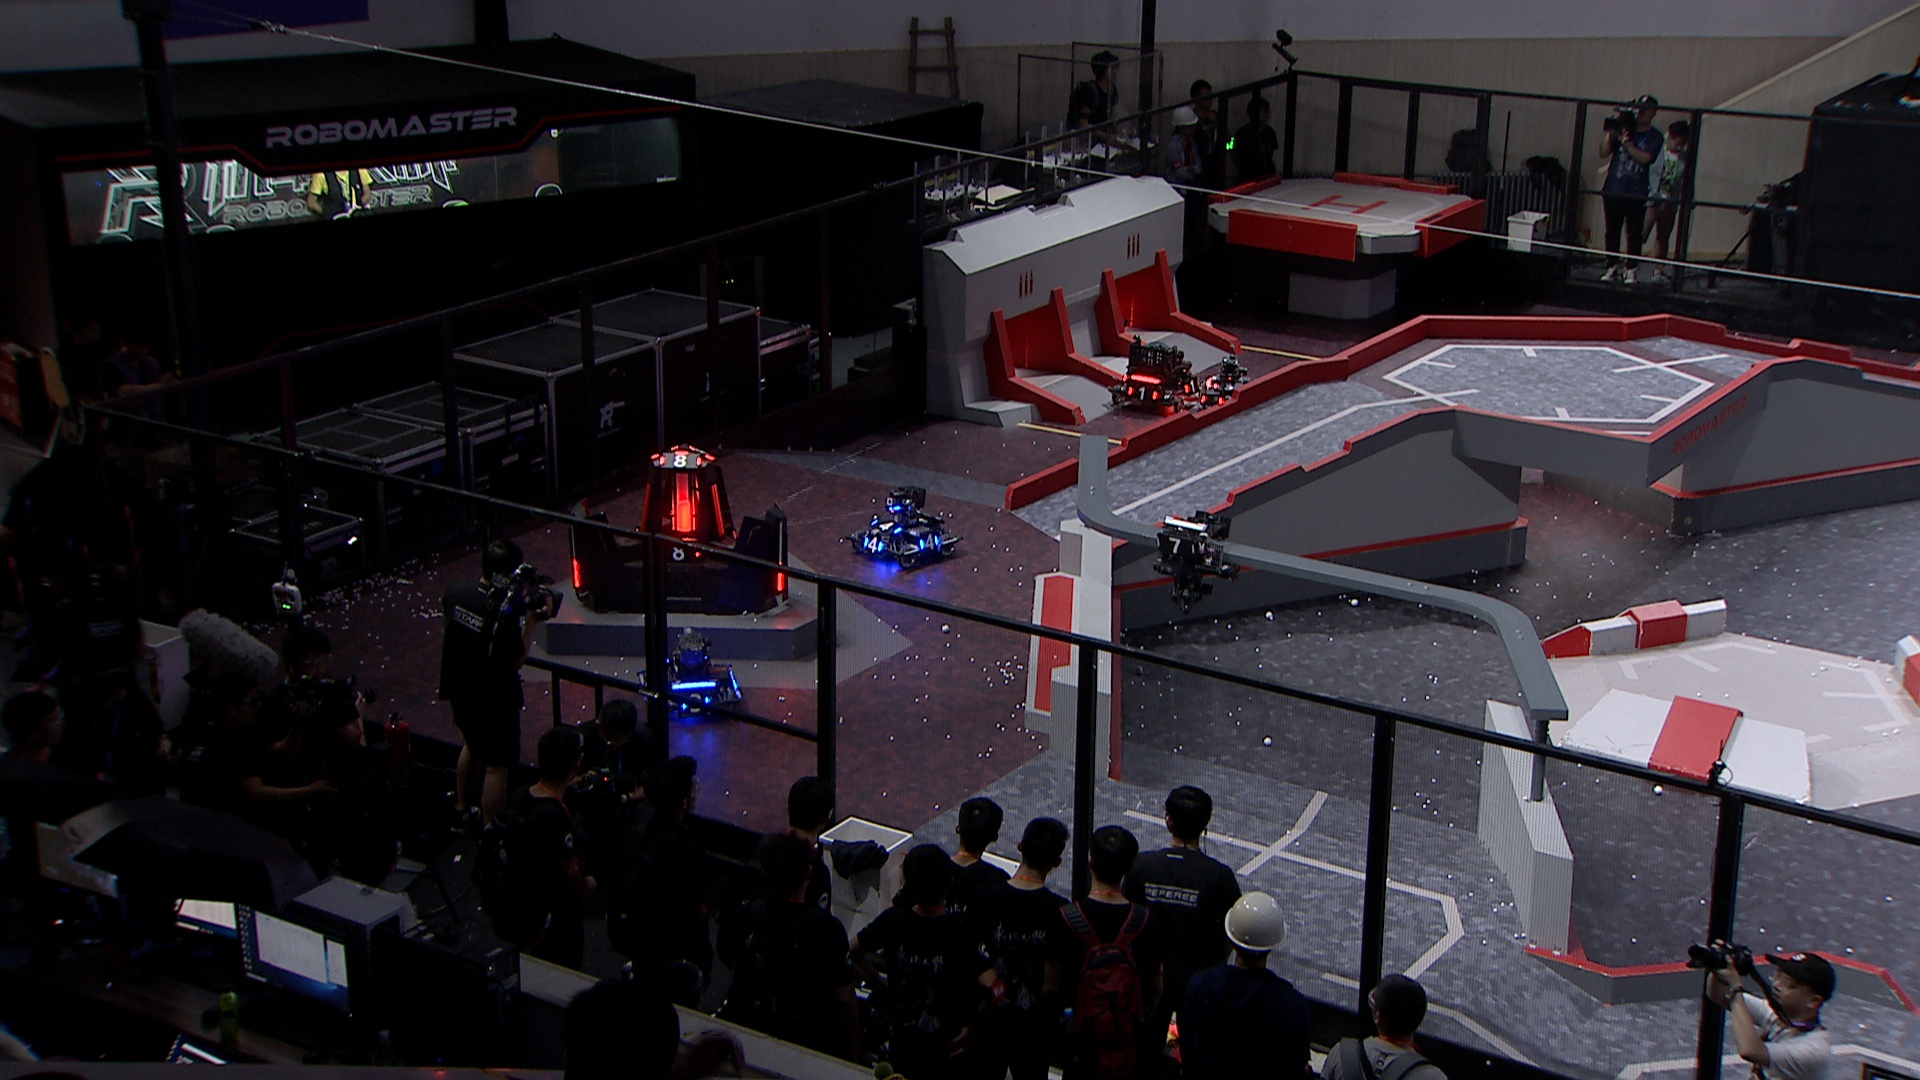armor: (709, 480, 728, 541), (1154, 534, 1197, 559), (636, 483, 655, 535), (671, 496, 698, 533), (676, 690, 713, 716), (657, 454, 705, 469), (866, 517, 905, 535), (666, 545, 702, 564), (1125, 385, 1160, 404), (568, 556, 585, 589), (916, 531, 942, 553), (862, 534, 887, 555), (1212, 380, 1240, 394), (774, 568, 789, 593), (1185, 377, 1203, 396)
base: (564, 442, 793, 617)
car: (636, 626, 745, 727), (840, 487, 965, 570), (1112, 334, 1207, 414), (1191, 353, 1259, 419)
watcher: (1149, 510, 1240, 613)
